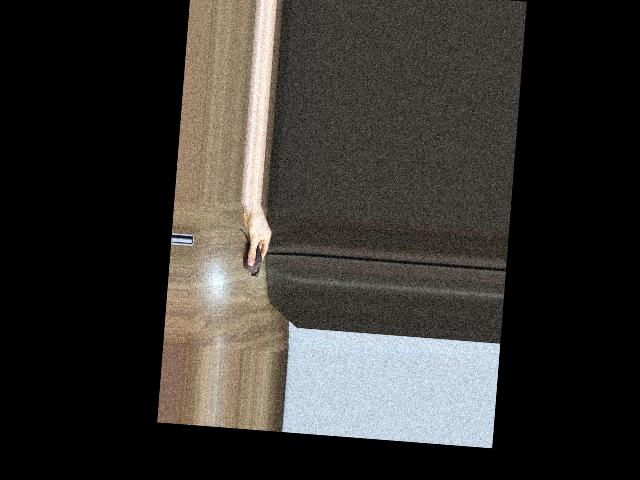beet: (235, 230, 263, 277)
